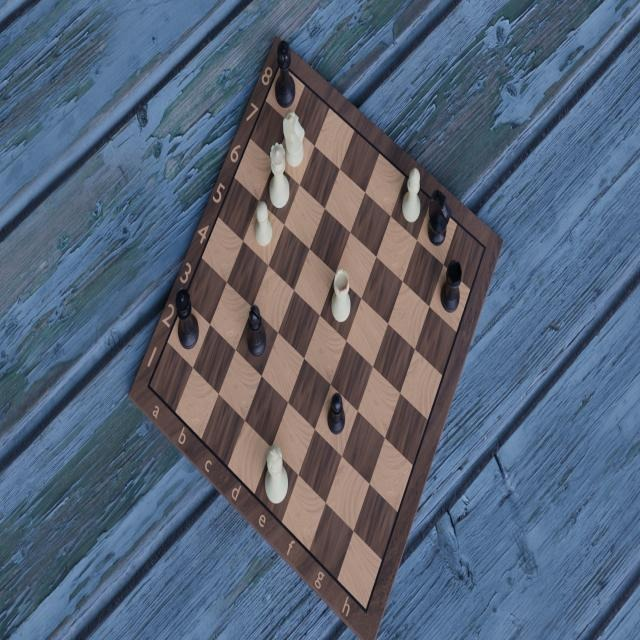black-bishop: (246, 303, 268, 359)
black-king: (275, 38, 298, 109)
black-knight: (426, 188, 453, 248)
black-pawn: (325, 390, 346, 437)
black-queen: (175, 287, 201, 353)
black-rook: (439, 257, 462, 315)
white-bishop: (401, 164, 423, 225)
white-king: (262, 442, 289, 505)
white-knight: (282, 108, 306, 171)
white-pawn: (253, 199, 275, 249)
white-queen: (268, 141, 291, 210)
white-rook: (331, 267, 353, 325)
